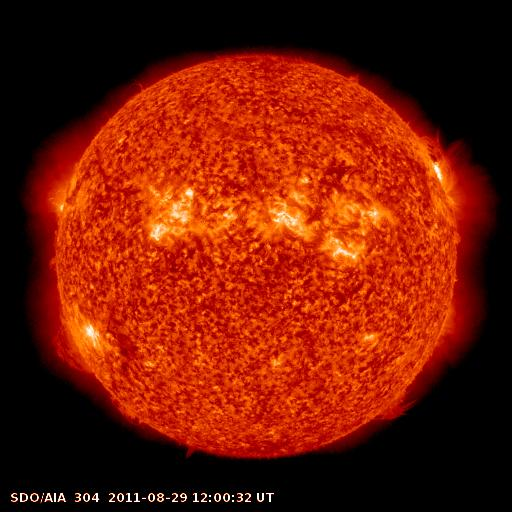prominence: (44, 311, 97, 377), (418, 128, 463, 196), (373, 388, 420, 429), (108, 391, 151, 426)
